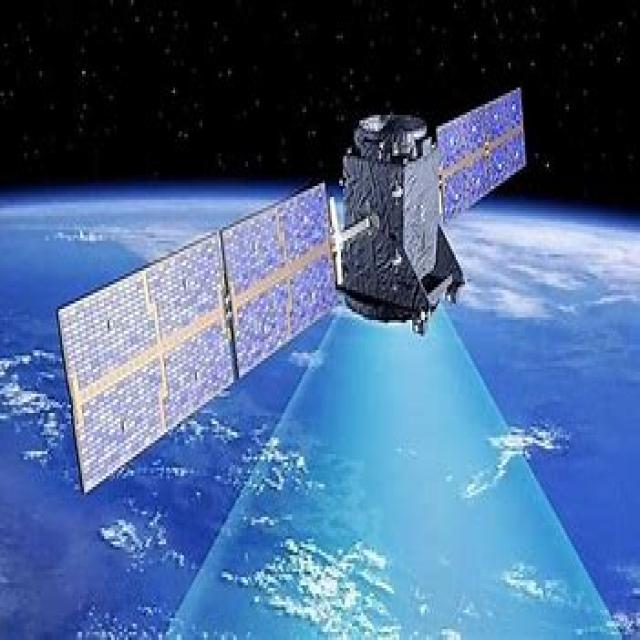satellite: (34, 84, 553, 507)
